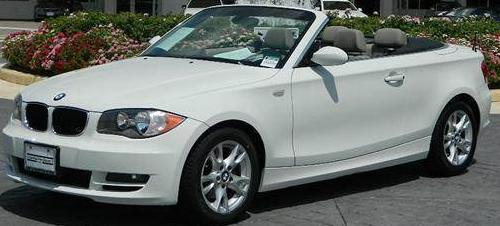front_view: (3, 87, 188, 209)
headlight: (97, 105, 188, 142)
